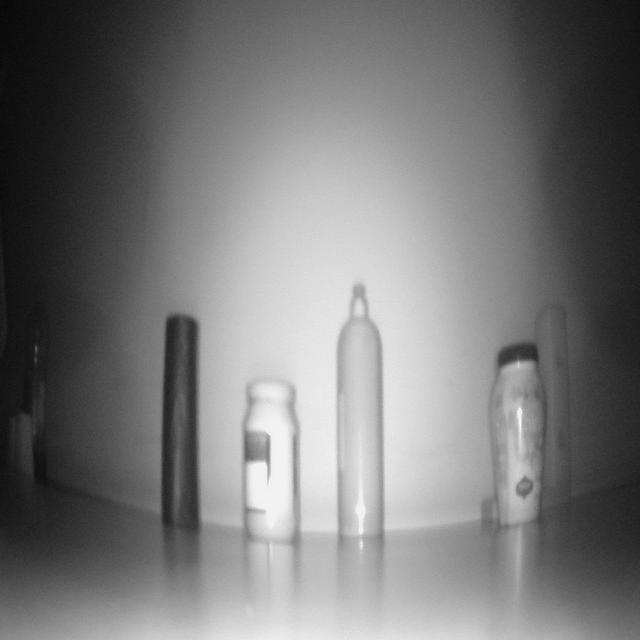targets: (338, 286, 382, 538), (490, 342, 542, 518), (247, 380, 299, 547), (164, 314, 199, 533), (543, 308, 569, 507), (26, 286, 48, 479), (12, 417, 30, 479)
